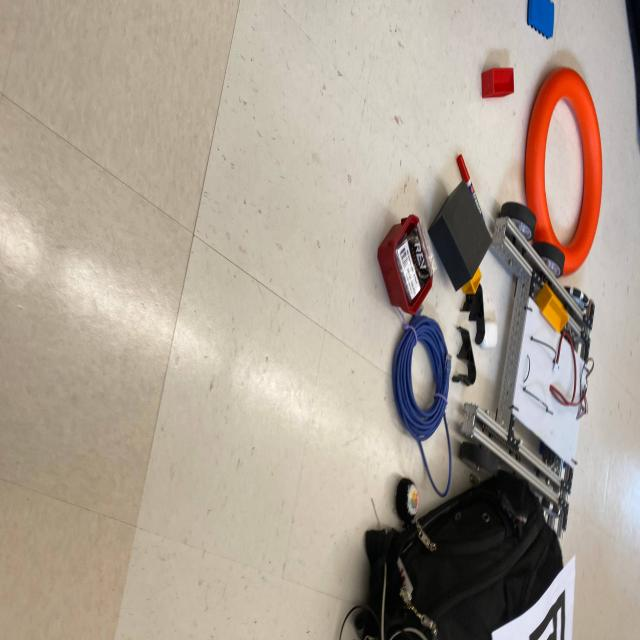red-specimen: (481, 68, 514, 98)
yellow-specimen: (535, 284, 569, 332), (462, 267, 481, 295)
